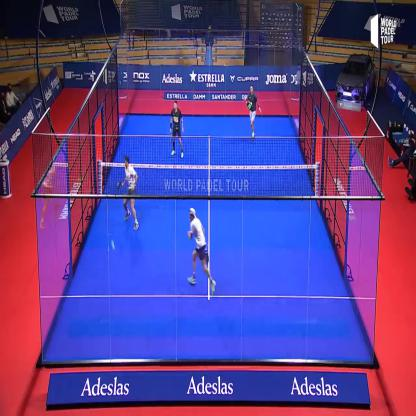ball: (108, 234, 118, 252)
